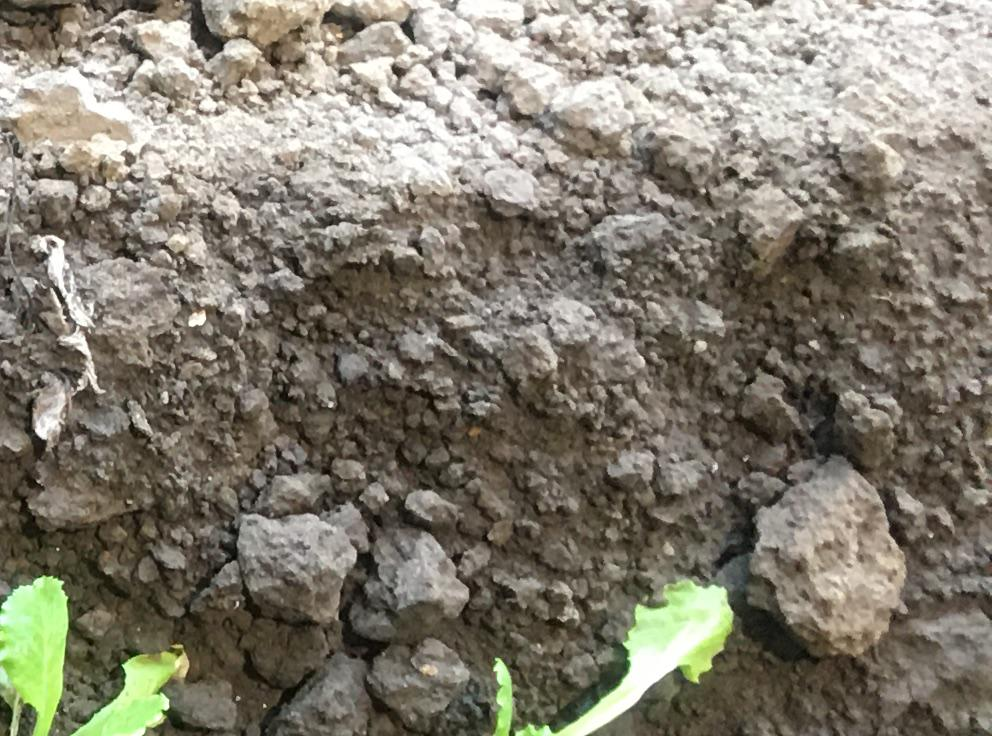block: (749, 462, 903, 663), (229, 512, 344, 623), (357, 533, 465, 642), (269, 655, 366, 736), (367, 645, 464, 719)
